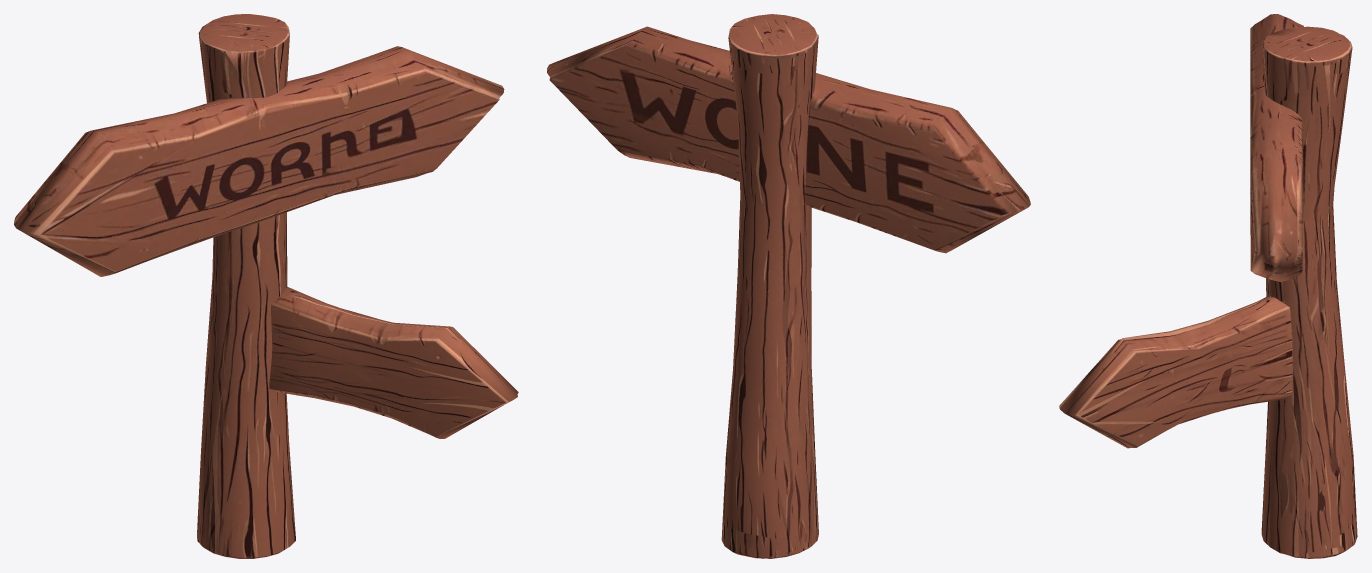
Rendered from signpost.glb.
3 renders of one model, left to right at view 1: azimuth 30°, elevation 25°; view 2: azimuth 150°, elevation 25°; view 3: azimuth 270°, elevation 25°, orthographic. The views are drawn at different scales.
Size of the model in its own units: 0.938 by 0.9507 by 0.5151.
1 material, 1 textured.
